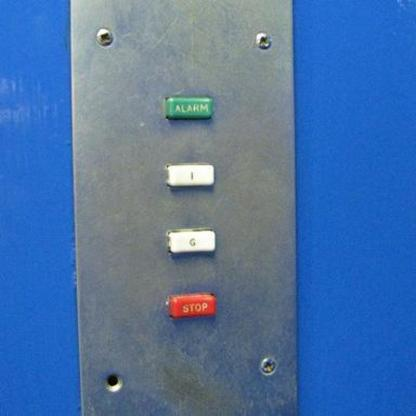1: (165, 161, 214, 188)
G: (164, 226, 216, 253)
text_alarm bell: (164, 95, 212, 119)
text_stop: (166, 292, 216, 318)
